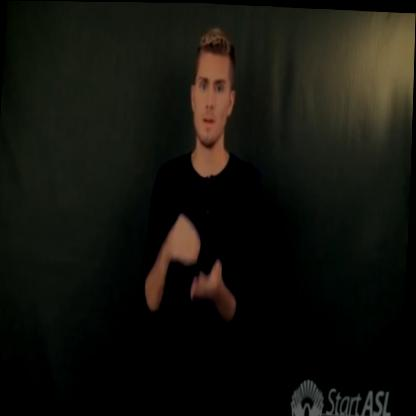Expensive: (156, 197, 239, 315)
